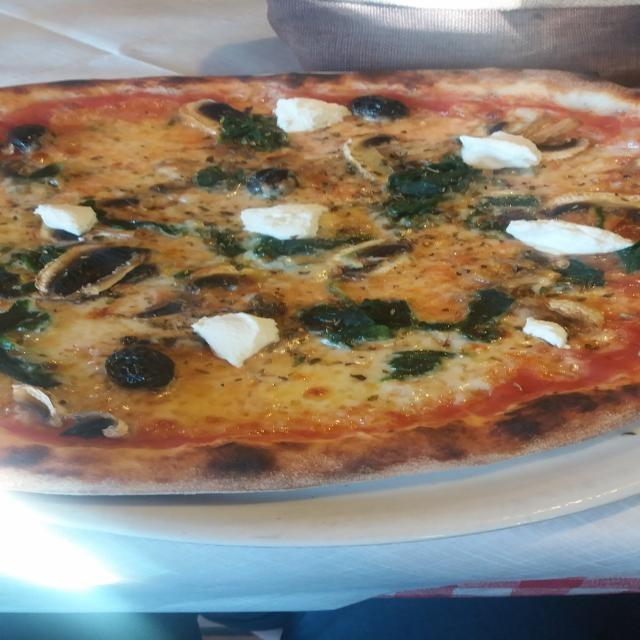pizza: (0, 69, 640, 503)
